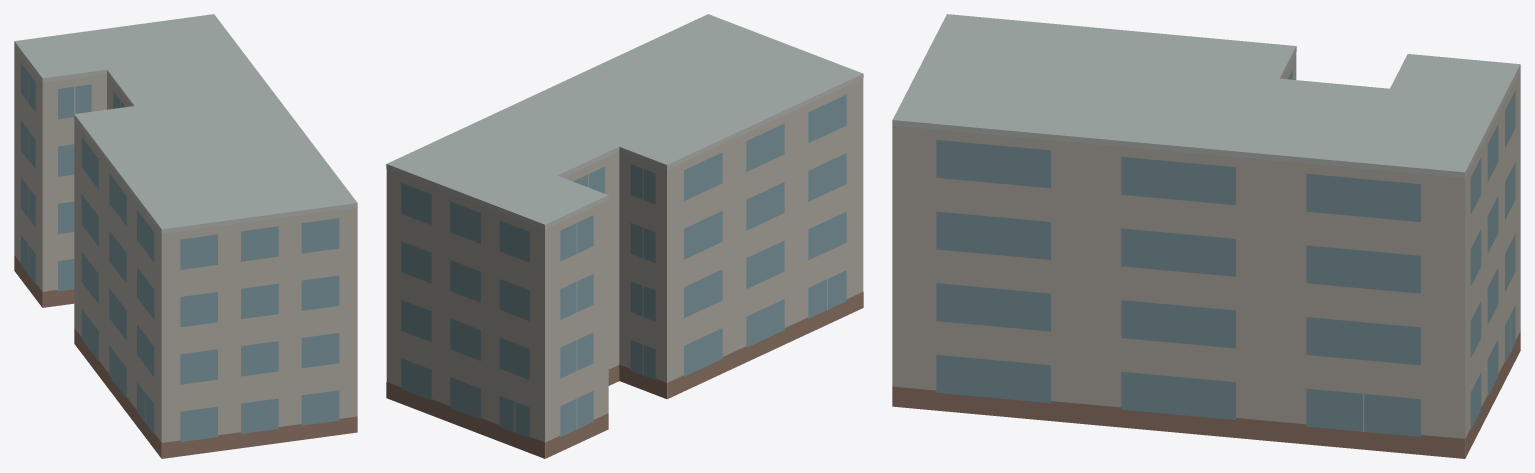
The model's file is residential-41bb8f53-909d-4477-8d8d-8dd4f890d62b.glb.
3 renders of one model, left to right at view 1: azimuth 30°, elevation 25°; view 2: azimuth 150°, elevation 25°; view 3: azimuth 270°, elevation 25°, orthographic. The views are drawn at different scales.
Parts seen in each view (by area): view 1: residential-41bb8f53-909d-4477-8d8d-8dd4f890d62b.tmp; view 2: residential-41bb8f53-909d-4477-8d8d-8dd4f890d62b.tmp; view 3: residential-41bb8f53-909d-4477-8d8d-8dd4f890d62b.tmp.
Part boxes in pixels (x1,y1,x2,y2): residential-41bb8f53-909d-4477-8d8d-8dd4f890d62b.tmp: [14, 14, 357, 458]; residential-41bb8f53-909d-4477-8d8d-8dd4f890d62b.tmp: [386, 14, 863, 458]; residential-41bb8f53-909d-4477-8d8d-8dd4f890d62b.tmp: [892, 14, 1520, 458].
Size of the model in its own units: 14.47 by 12.2 by 24.25.
